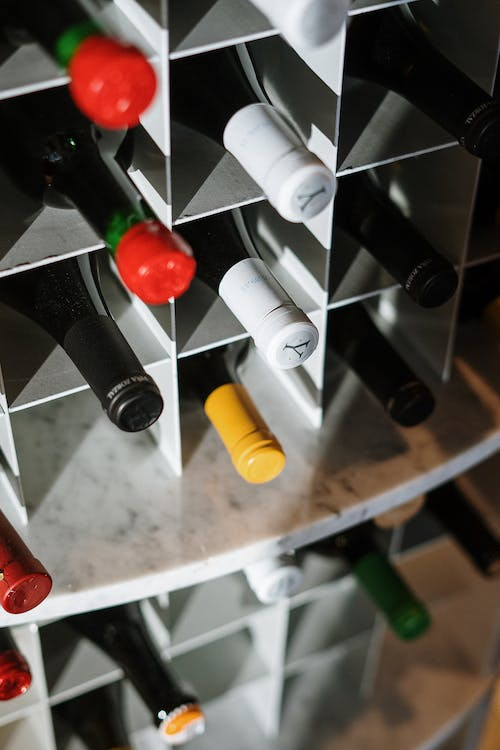alcohol: (0, 82, 198, 309), (0, 248, 166, 436), (167, 41, 336, 224), (171, 206, 321, 372), (346, 3, 500, 161), (68, 596, 206, 747), (0, 0, 158, 129), (333, 166, 461, 308), (301, 514, 432, 646), (176, 335, 289, 488), (326, 300, 441, 431), (425, 473, 500, 581), (0, 501, 55, 616), (247, 0, 353, 55), (243, 550, 305, 607), (0, 624, 35, 705)
